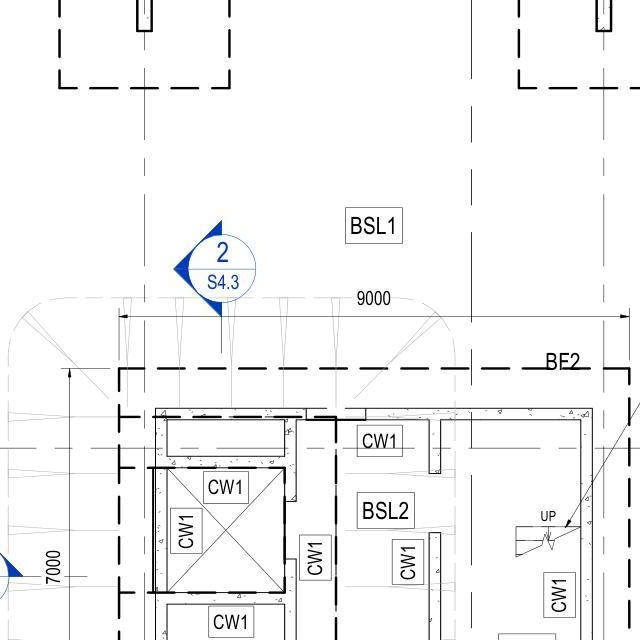BF2: (532, 336, 591, 372)
BSL1: (332, 194, 426, 258)
BSL2: (350, 492, 423, 527)
CW1: (533, 572, 586, 624), (194, 605, 267, 640), (201, 461, 259, 502), (167, 509, 210, 558), (296, 534, 338, 583), (357, 422, 411, 458), (396, 536, 430, 588)
